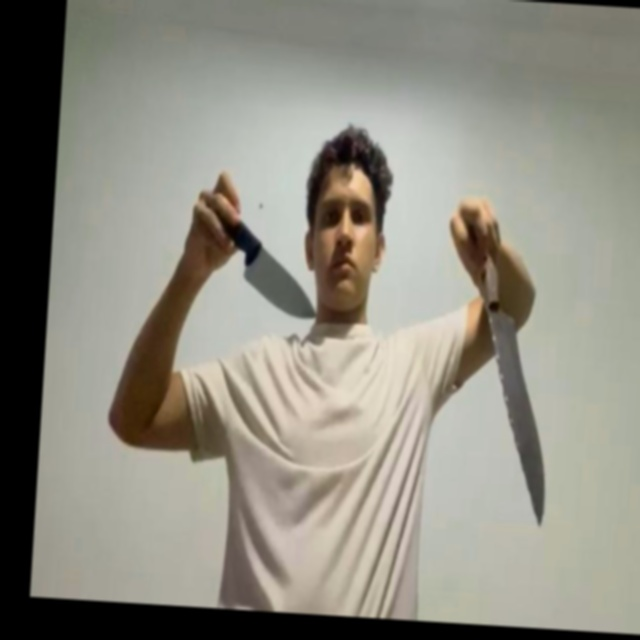Sharp-Object: (473, 304, 558, 529), (241, 240, 320, 315)
